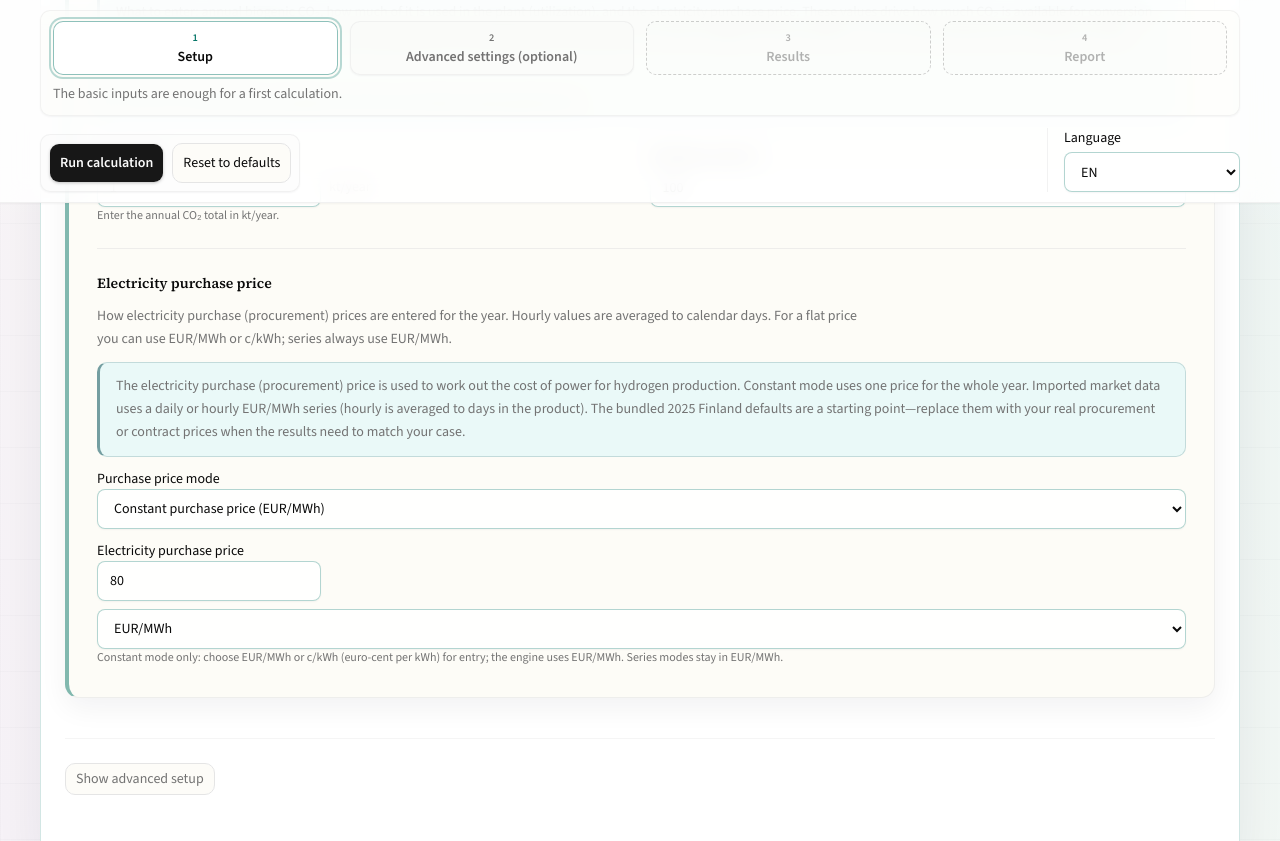
Scenario: WP21 – commercial default price verify hints (UI) › re-shows the methane hint when the user edits back to the factory default
(page scrolled)
Expected: the button "Run calculation" is shown, [49,143,164,183]
Click the button with test id "toggle-advanced-setup". click: (140, 779)
box: [65,763,215,795]
(page scrolled)
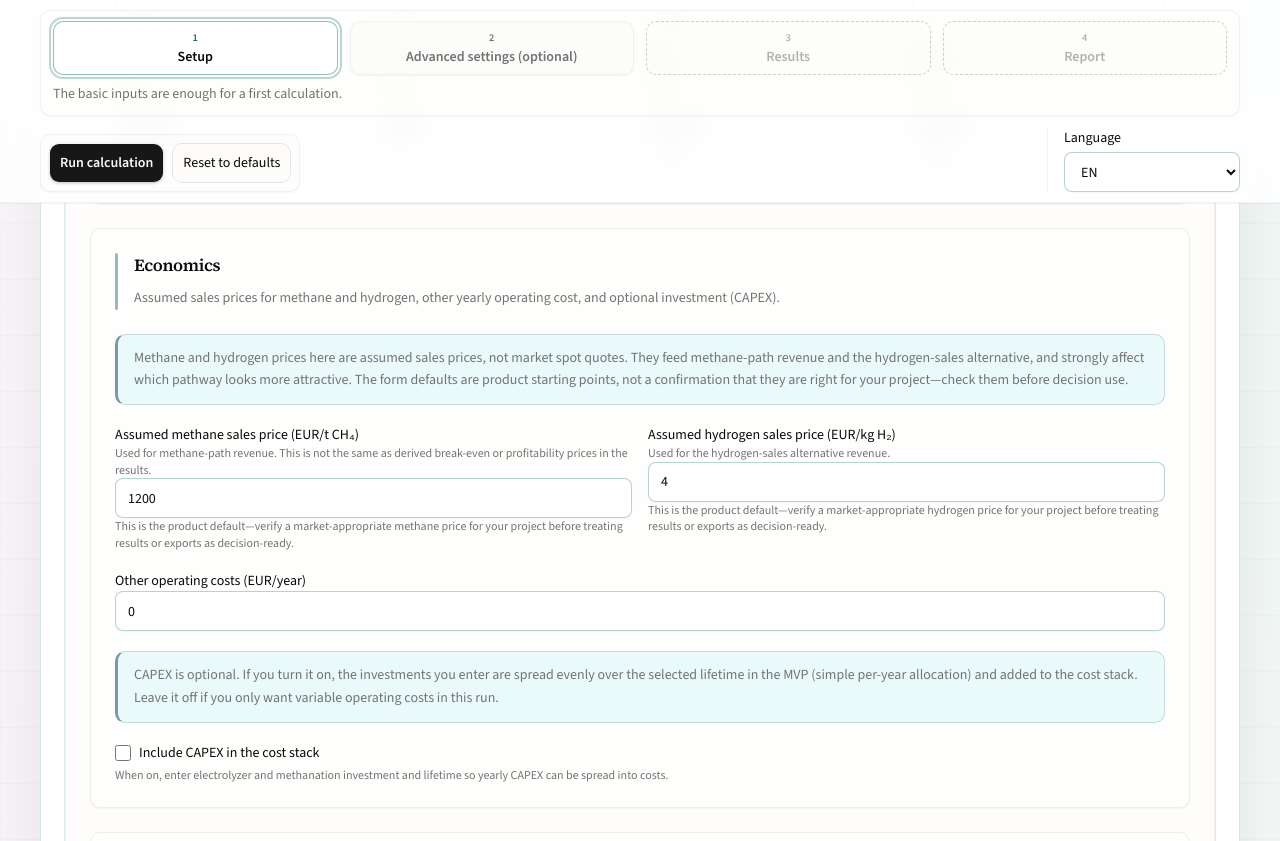
Replace the text in the field labelled "Assumed methane sales price (EUR/t CH₄)" with "2000". click: (374, 498)
box: [115,478,632,518]
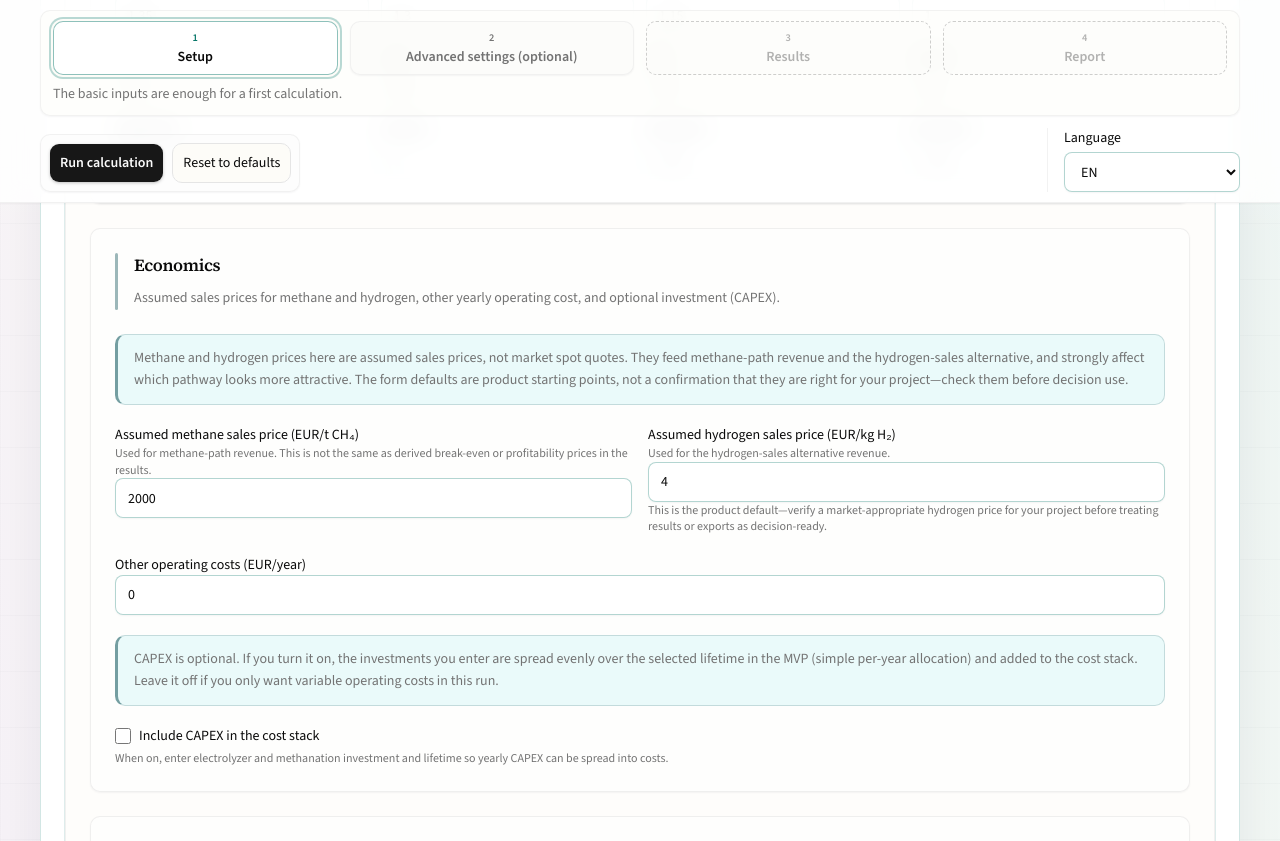
Now the text with test id "economics-methane-default-verify-hint" is gone
Replace the text in the field labelled "Assumed methane sales price (EUR/t CH₄)" with "1200". click: (374, 498)
box: [115,478,632,518]
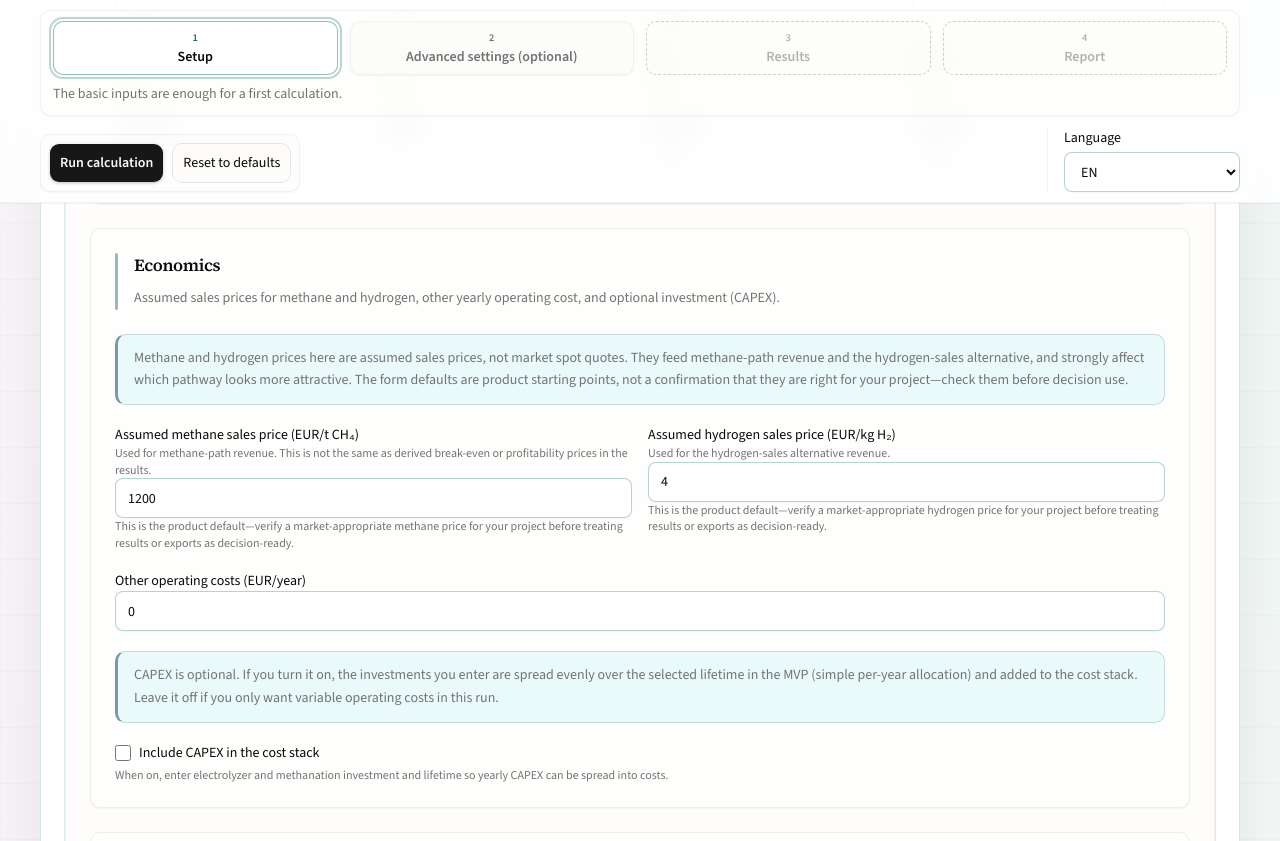
Now the text with test id "economics-methane-default-verify-hint" is shown, box [115,518,623,551]
